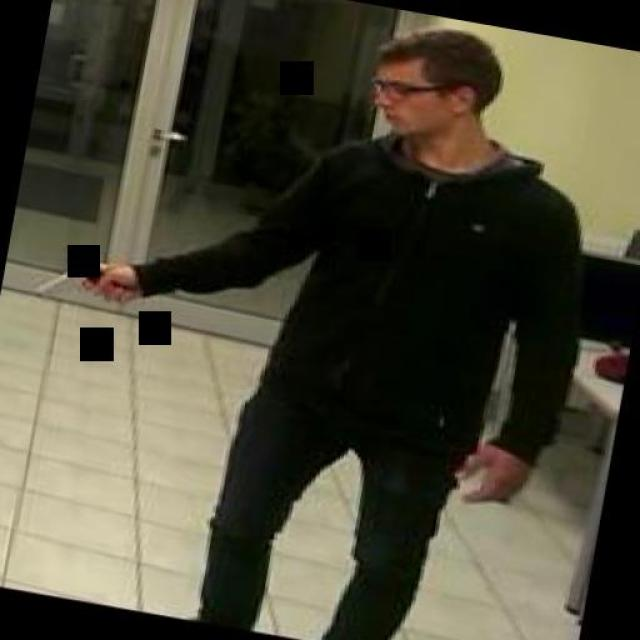gun: (27, 241, 135, 314)
